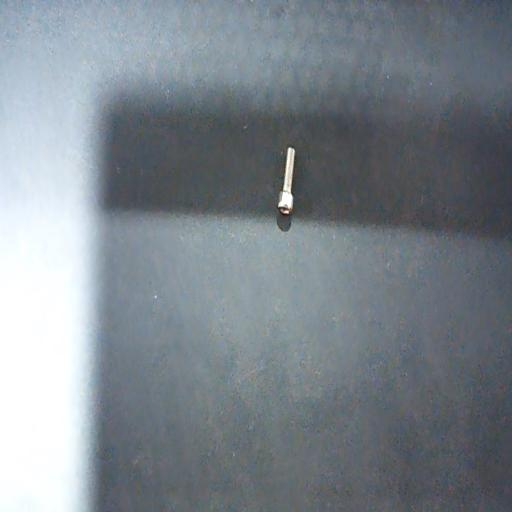screw: (278, 148, 296, 216)
